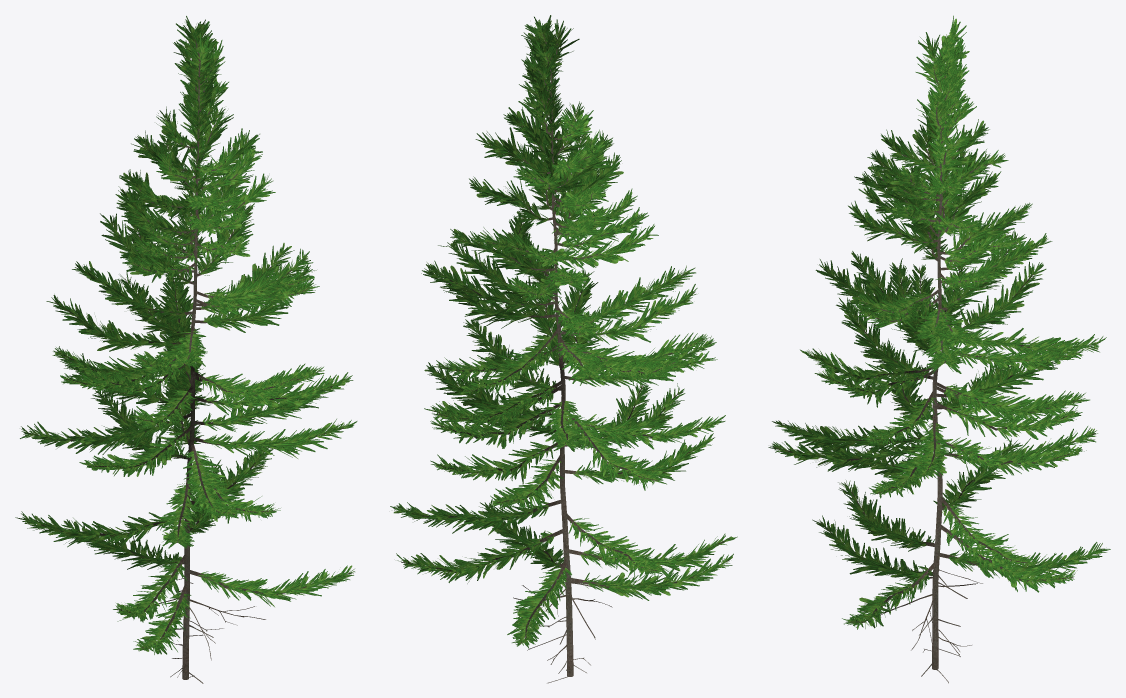
The model's file is fir_tree_a.glb.
3 views of the same model, side by side, from view 1: azimuth 30°, elevation 25°; view 2: azimuth 150°, elevation 25°; view 3: azimuth 270°, elevation 25° (orthographic).
Parts seen in each view (by area): view 1: fir_tree_a; view 2: fir_tree_a; view 3: fir_tree_a.
Part boxes in pixels (<box>): fir_tree_a: <box>15,16,357,683</box>; fir_tree_a: <box>390,15,737,683</box>; fir_tree_a: <box>768,15,1110,683</box>.
Size of the model in its own units: 3.85 by 8.57 by 4.01.
3 materials, 3 textured.
